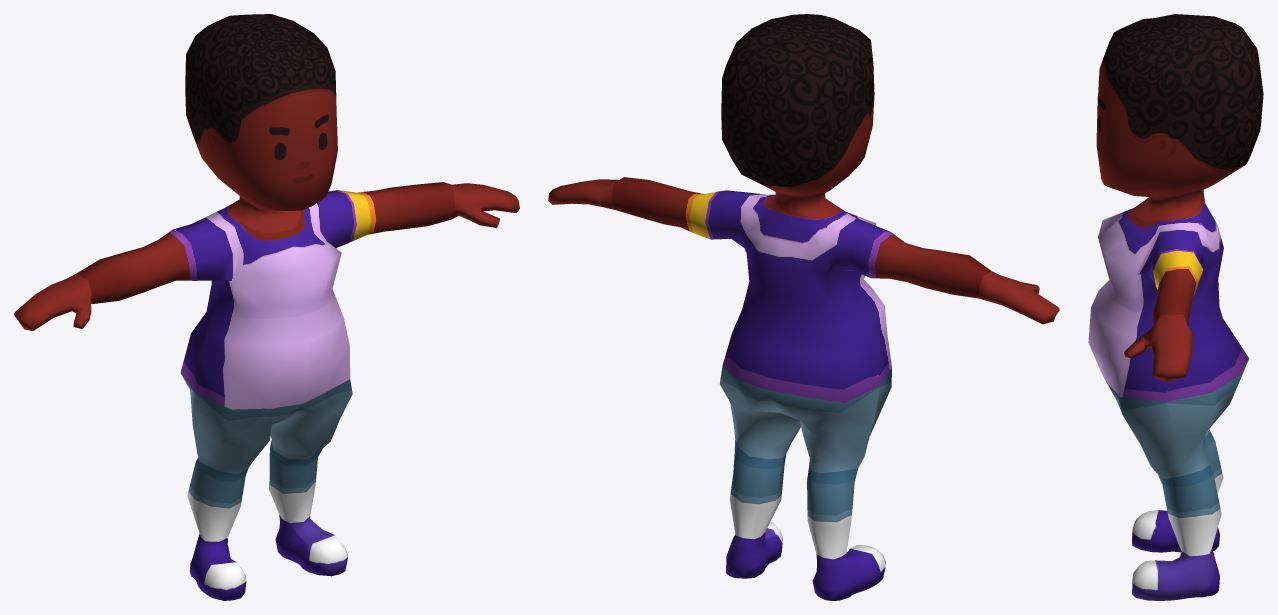
File: Zoraya.fbx
The picture shows the model from 3 angles, left to right: view 1: azimuth 30°, elevation 25°; view 2: azimuth 150°, elevation 25°; view 3: azimuth 270°, elevation 25°; orthographic projection.
Parts seen in each view (by area): view 1: characterMedium; view 2: characterMedium; view 3: characterMedium.
Boxes of the visible parts, <box> form: characterMedium: <box>14,14,519,600</box>; characterMedium: <box>548,14,1059,600</box>; characterMedium: <box>1088,14,1263,600</box>.
Size of the model in its own units: 362 by 376 by 110.
Materials: 1 (1 with a texture image).
